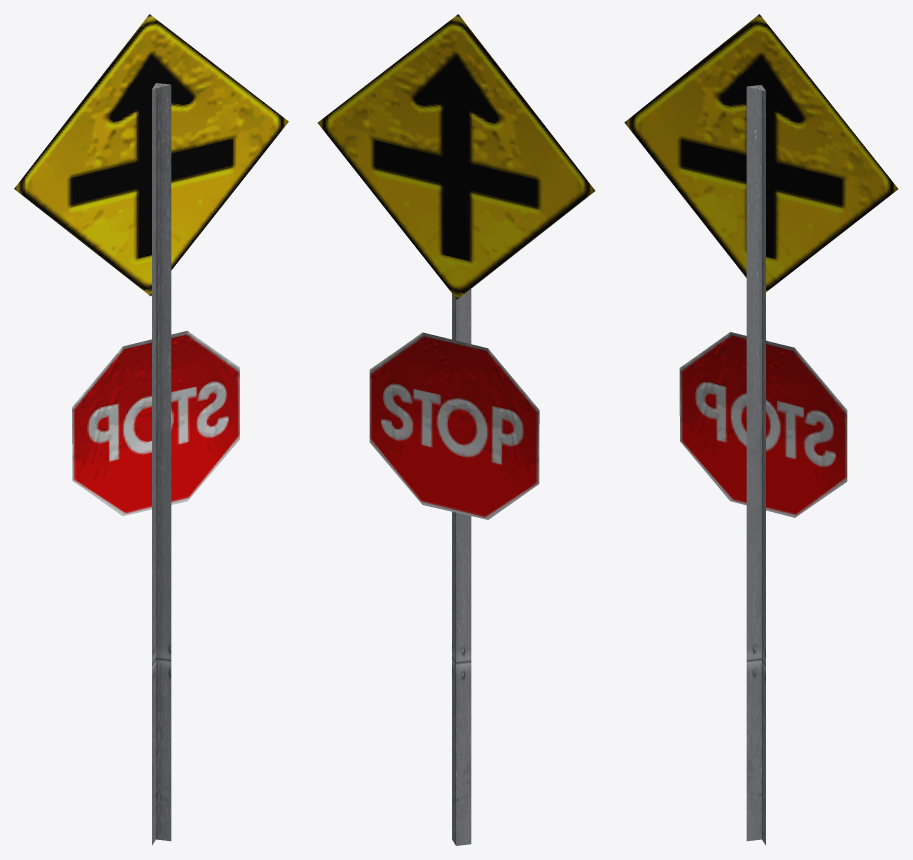
File: sign_small1.fbx
3 renders of one model, left to right at view 1: azimuth 30°, elevation 25°; view 2: azimuth 150°, elevation 25°; view 3: azimuth 330°, elevation 25°, orthographic.
Parts seen in each view (by area): view 1: sign_small1; view 2: sign_small1; view 3: sign_small1.
Part boxes in pixels (x1,y1,x2,y2): sign_small1: [14, 14, 288, 845]; sign_small1: [317, 14, 595, 845]; sign_small1: [624, 14, 898, 845].
Size of the model in its own units: 134 by 383 by 6.4.
